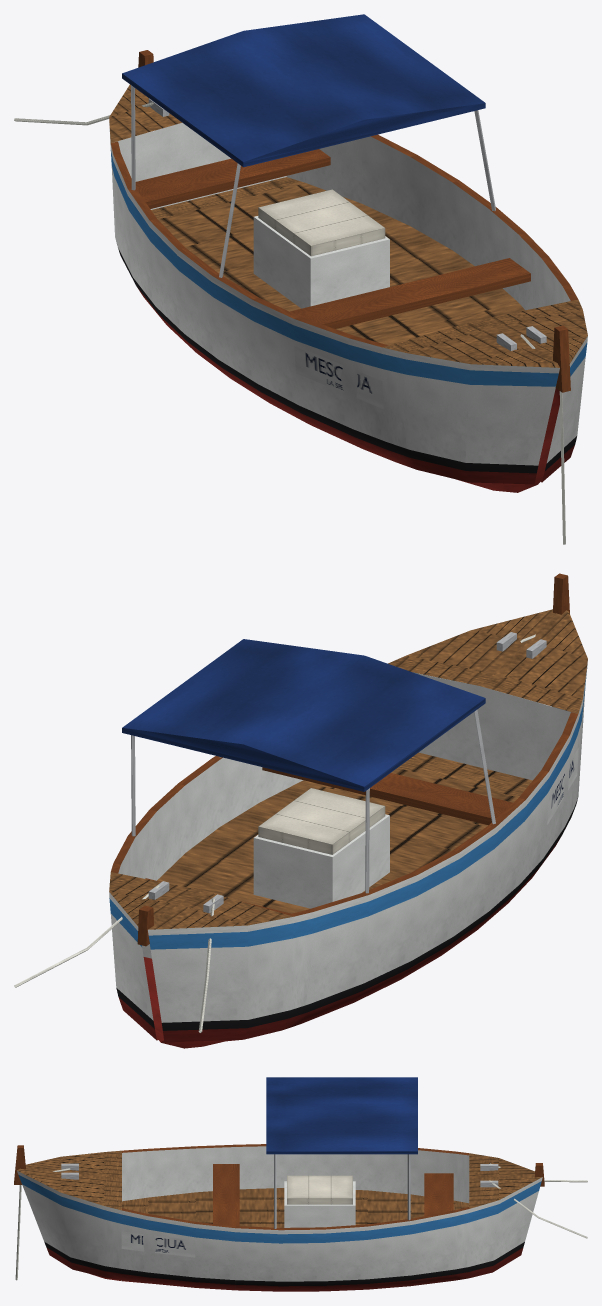
Rendered from SM_Morin_Barca_Gozzo_FasciaAzzurra.fbx.
3 views of the same model, one above another, from view 1: azimuth 30°, elevation 25°; view 2: azimuth 150°, elevation 25°; view 3: azimuth 270°, elevation 25° (orthographic). The views are drawn at different scales.
Visible parts, largest first — view 1: SM_Morin_Barca_Gozzo_FasciaAzzurra; view 2: SM_Morin_Barca_Gozzo_FasciaAzzurra; view 3: SM_Morin_Barca_Gozzo_FasciaAzzurra.
Boxes of the visible parts, x1,y1,x2,y2 form: SM_Morin_Barca_Gozzo_FasciaAzzurra: [14, 14, 587, 544]; SM_Morin_Barca_Gozzo_FasciaAzzurra: [14, 573, 587, 1048]; SM_Morin_Barca_Gozzo_FasciaAzzurra: [14, 1077, 587, 1291].
Size of the model in its own units: 229 by 644 by 222.
1 material, 1 textured.
